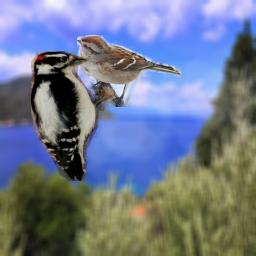Sparrow: (77, 35, 182, 107)
Woodpecker: (31, 51, 115, 181)
